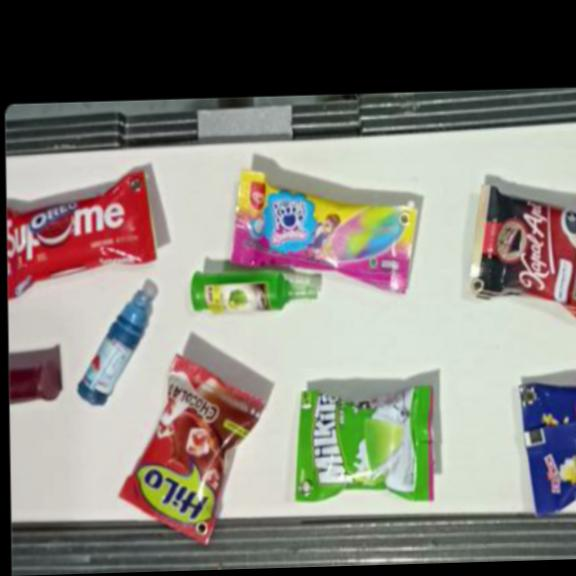Plastik: (115, 350, 264, 547), (229, 163, 419, 298), (5, 167, 157, 299), (293, 383, 434, 503), (469, 181, 576, 323), (74, 289, 153, 407), (517, 382, 576, 515), (189, 267, 316, 313), (7, 359, 62, 405)
